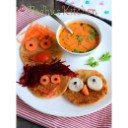dosa: (23, 61, 72, 100), (64, 72, 110, 104), (20, 30, 59, 65)
